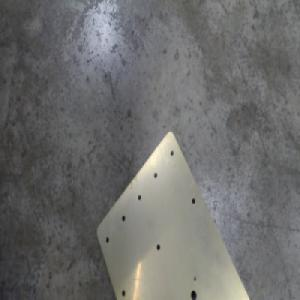MetalSheet: (93, 126, 254, 300)
